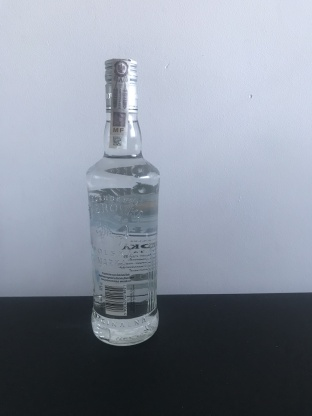nakretka: (102, 55, 140, 116)
